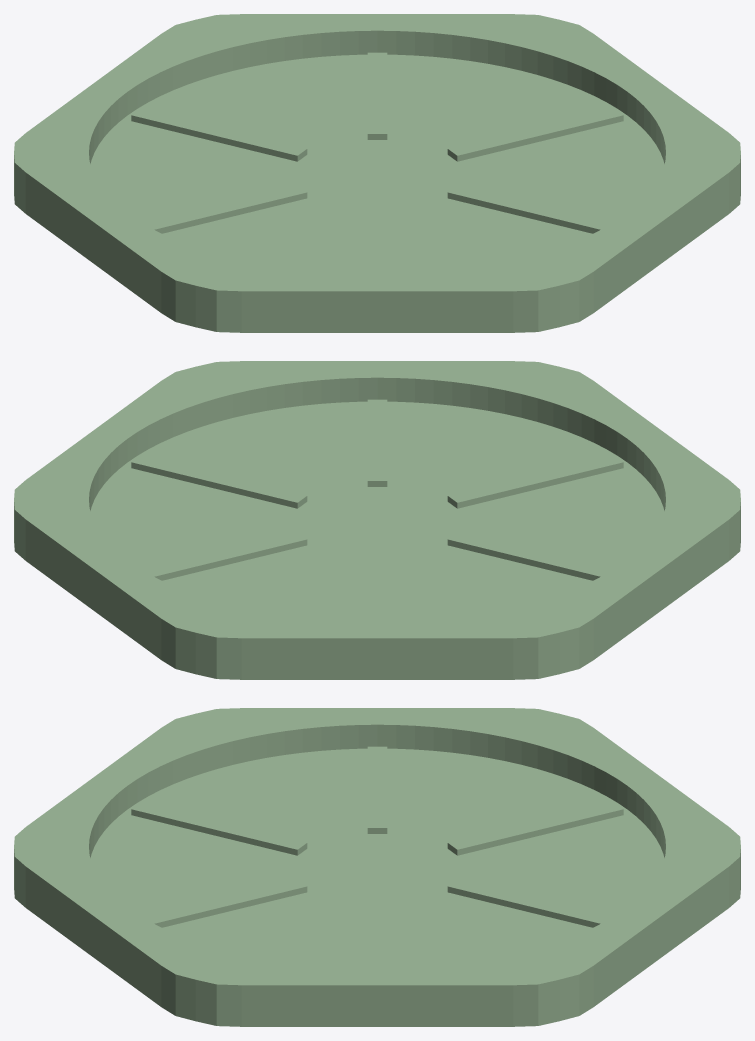
Rendered from sage-hex-preview.glb.
3 views of the same model, one above another, from view 1: azimuth 30°, elevation 25°; view 2: azimuth 150°, elevation 25°; view 3: azimuth 270°, elevation 25° (orthographic).
Parts seen in each view (by area): view 1: sage-hex_20261109-175358; view 2: sage-hex_20261109-175358; view 3: sage-hex_20261109-175358.
Boxes of the visible parts, x1=… form: sage-hex_20261109-175358: x1=14, y1=14, x2=740, y2=332; sage-hex_20261109-175358: x1=14, y1=361, x2=740, y2=679; sage-hex_20261109-175358: x1=14, y1=708, x2=740, y2=1026.
Size of the model in its own units: 0.1 by 0.007 by 0.1109.
